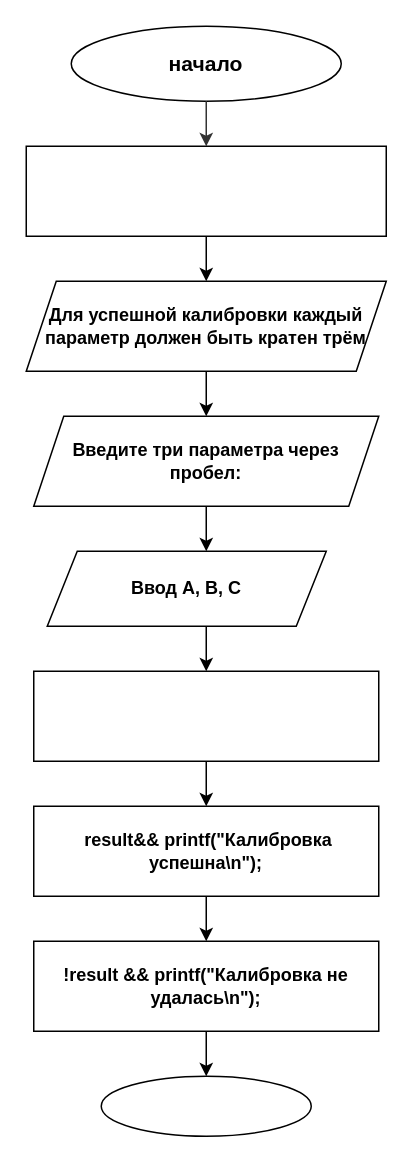
The diagram is 413 pixels wide and 1163 high, and some of its shapes have lost their labels. Here are the shapes that lost their labels. From the top down, the box of each, then its label:
(25, 145, 386, 236): int A, B, C; int result;
(32, 670, 379, 761): result = ((A % 3 == 0) && (B % 3 == 0) && (C % 3 == 0));
(100, 1075, 311, 1136): конец
